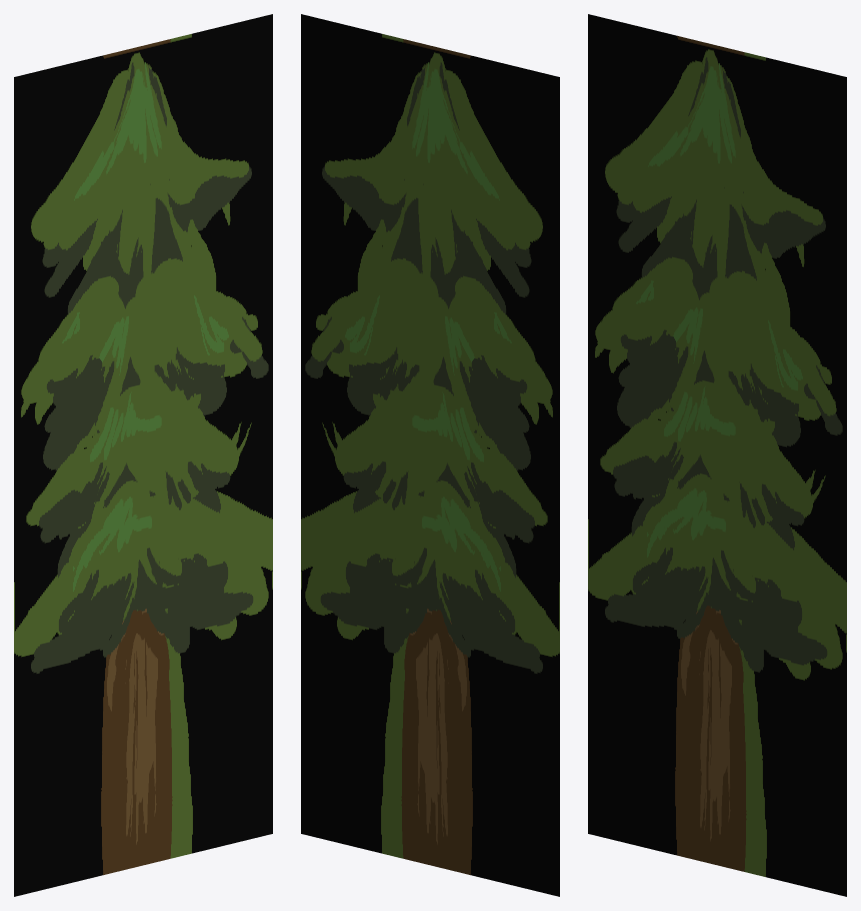
The model's file is tree_plane_a.glb.
3 renders of one model, left to right at view 1: azimuth 30°, elevation 25°; view 2: azimuth 150°, elevation 25°; view 3: azimuth 330°, elevation 25°, orthographic.
Parts seen in each view (by area): view 1: tree-plane1; view 2: tree-plane1; view 3: tree-plane1.
Boxes of the visible parts, left/top/right/bottom form: tree-plane1: left=14, top=14, right=272, bottom=896; tree-plane1: left=301, top=14, right=559, bottom=896; tree-plane1: left=588, top=14, right=846, bottom=896.
Bounding box in the file's own units: 0.3879 × 1.17 × 5.13e-08.
Materials: 1 (1 with a texture image).
